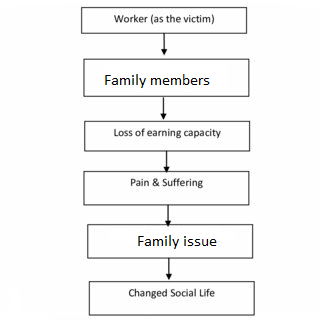arrow: (158, 31, 169, 54), (162, 149, 172, 172), (164, 255, 173, 280), (160, 94, 167, 118), (164, 204, 172, 225)
process: (80, 56, 251, 99), (81, 169, 251, 207), (85, 222, 255, 260), (87, 279, 256, 317), (82, 118, 252, 153), (79, 5, 248, 36)
text: (103, 71, 211, 88), (113, 125, 223, 140), (112, 13, 215, 26), (138, 233, 220, 248), (125, 287, 216, 299), (128, 176, 203, 188)
